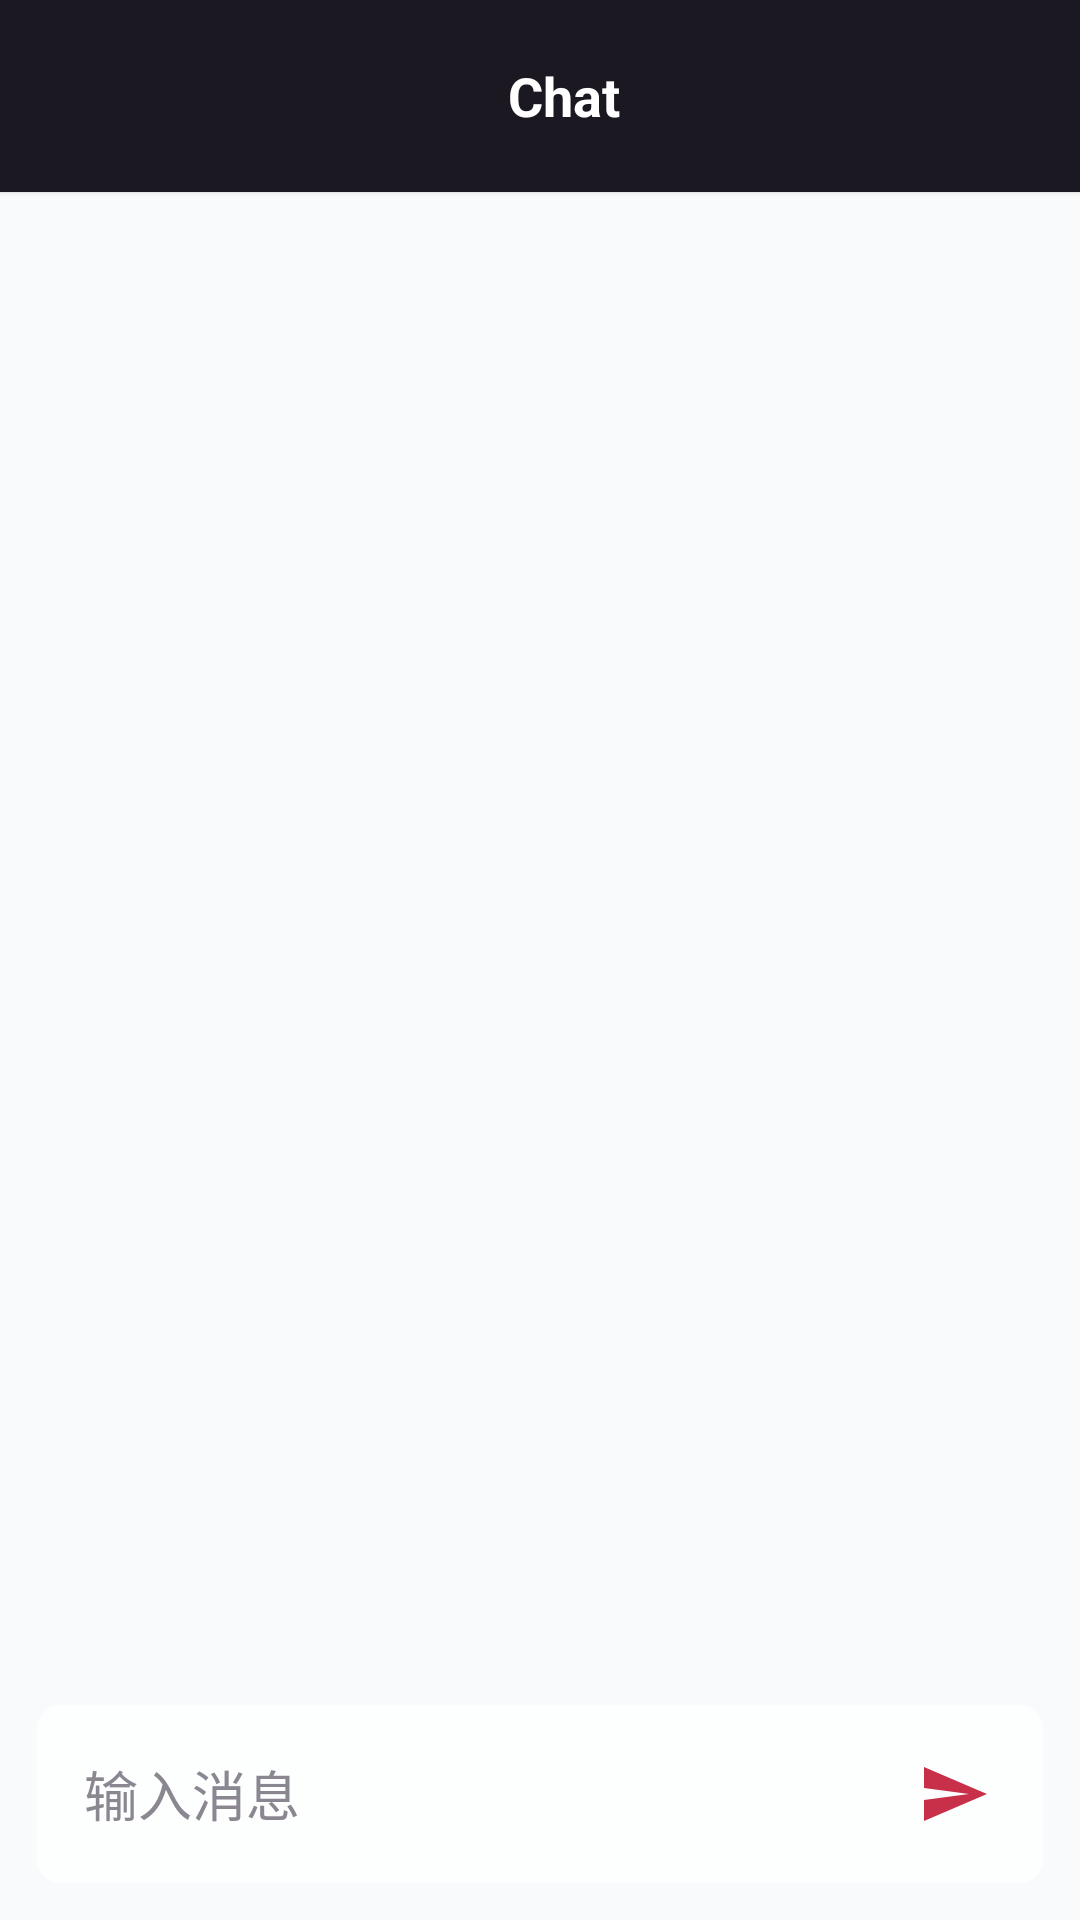

Point at icon controls on the screen. Image size 1080px×1920px, points as (x=x, y=y).
发送消息: (x=955, y=1794)
